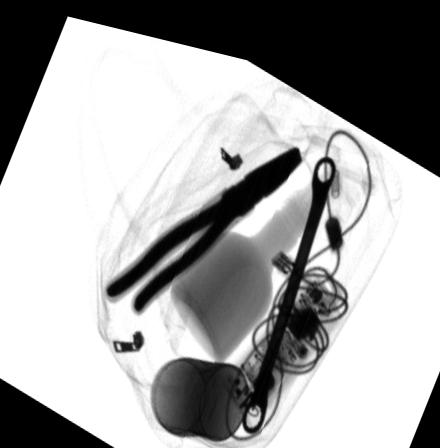Pliers: (102, 132, 301, 309)
Wrench: (241, 138, 337, 424)
